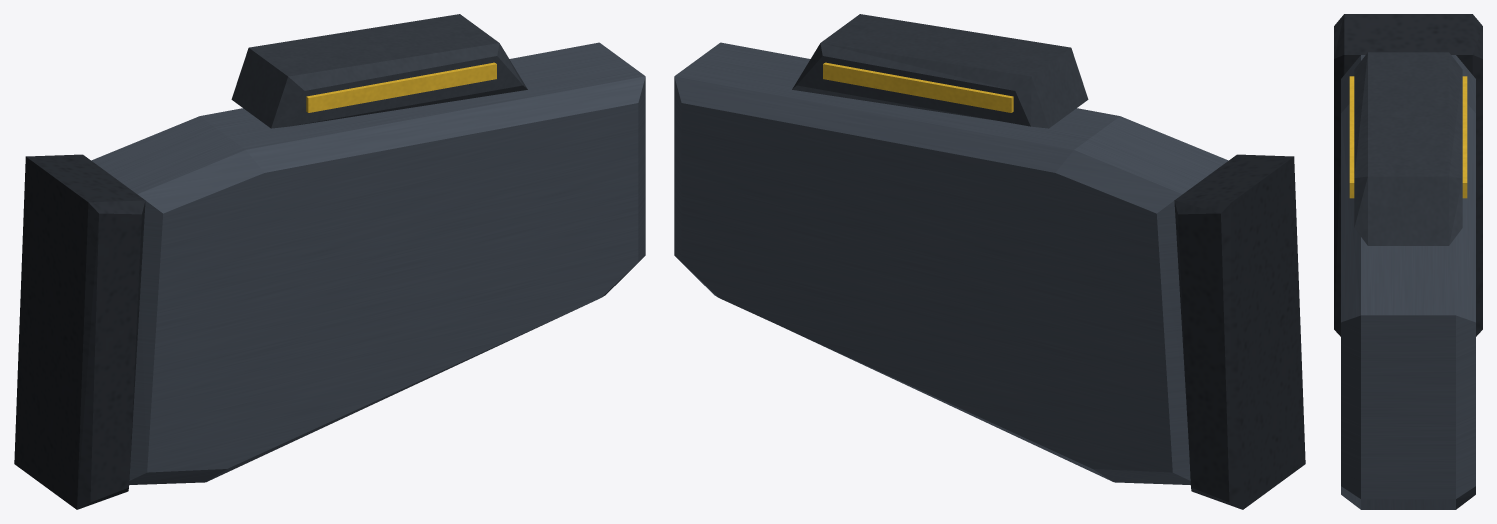
Rendered from stock_cheek_rise_v2.glb.
3 views of the same model, side by side, from view 1: azimuth 30°, elevation 25°; view 2: azimuth 150°, elevation 25°; view 3: azimuth 270°, elevation 25° (orthographic). The views are drawn at different scales.
Visible parts, largest first — view 1: stock_cheek_rise_mesh; view 2: stock_cheek_rise_mesh; view 3: stock_cheek_rise_mesh.
Part boxes in pixels (x1=…): stock_cheek_rise_mesh: x1=14, y1=14, x2=645, y2=509; stock_cheek_rise_mesh: x1=674, y1=14, x2=1305, y2=509; stock_cheek_rise_mesh: x1=1334, y1=14, x2=1482, y2=509.
Bounding box in the file's own units: 0.202 × 0.128 × 0.044.
Materials: 4 (4 with a texture image).
